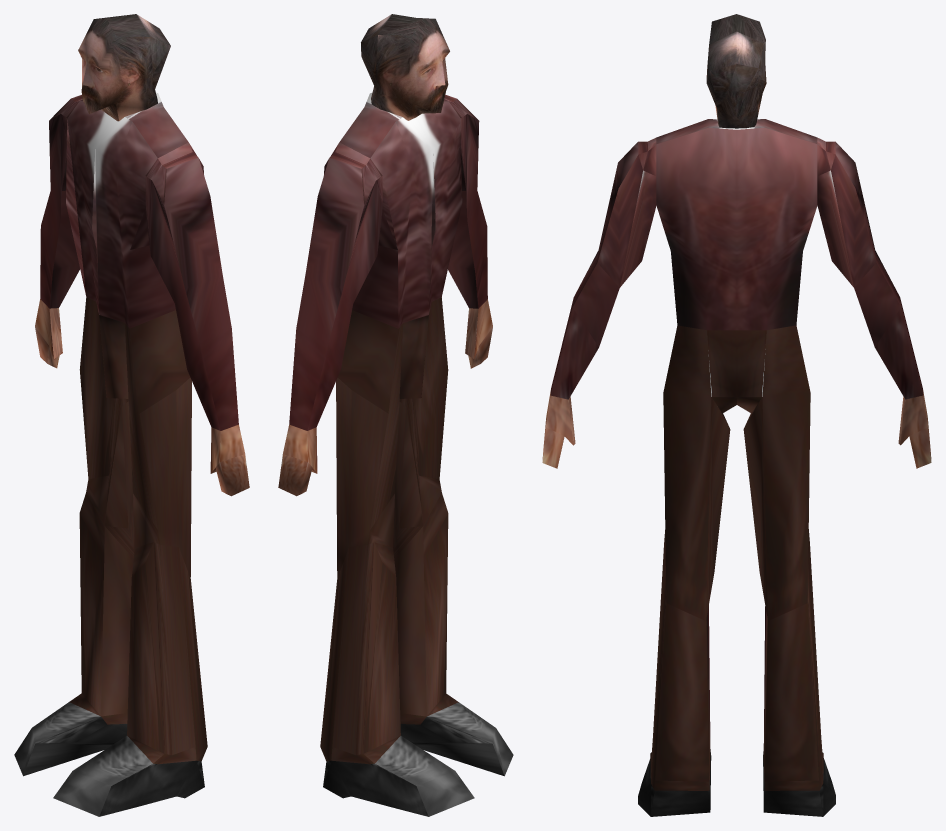
The model's file is psx_base_-_bearded_man.glb.
3 views of the same model, side by side, from view 1: azimuth 30°, elevation 25°; view 2: azimuth 150°, elevation 25°; view 3: azimuth 270°, elevation 25° (orthographic). The views are drawn at different scales.
Visible parts, largest first — view 1: Object_2, Object_3; view 2: Object_2, Object_3; view 3: Object_2, Object_3.
Part boxes in pixels (bbox=[...]): Object_2: bbox=[14, 92, 249, 816]; Object_3: bbox=[78, 14, 170, 121]; Object_2: bbox=[278, 93, 513, 816]; Object_3: bbox=[361, 14, 449, 120]; Object_2: bbox=[542, 119, 931, 816]; Object_3: bbox=[706, 14, 766, 128].
Bounding box in the file's own units: 0.2494 × 1.35 × 0.6135.
Materials: 2 (2 with a texture image).
